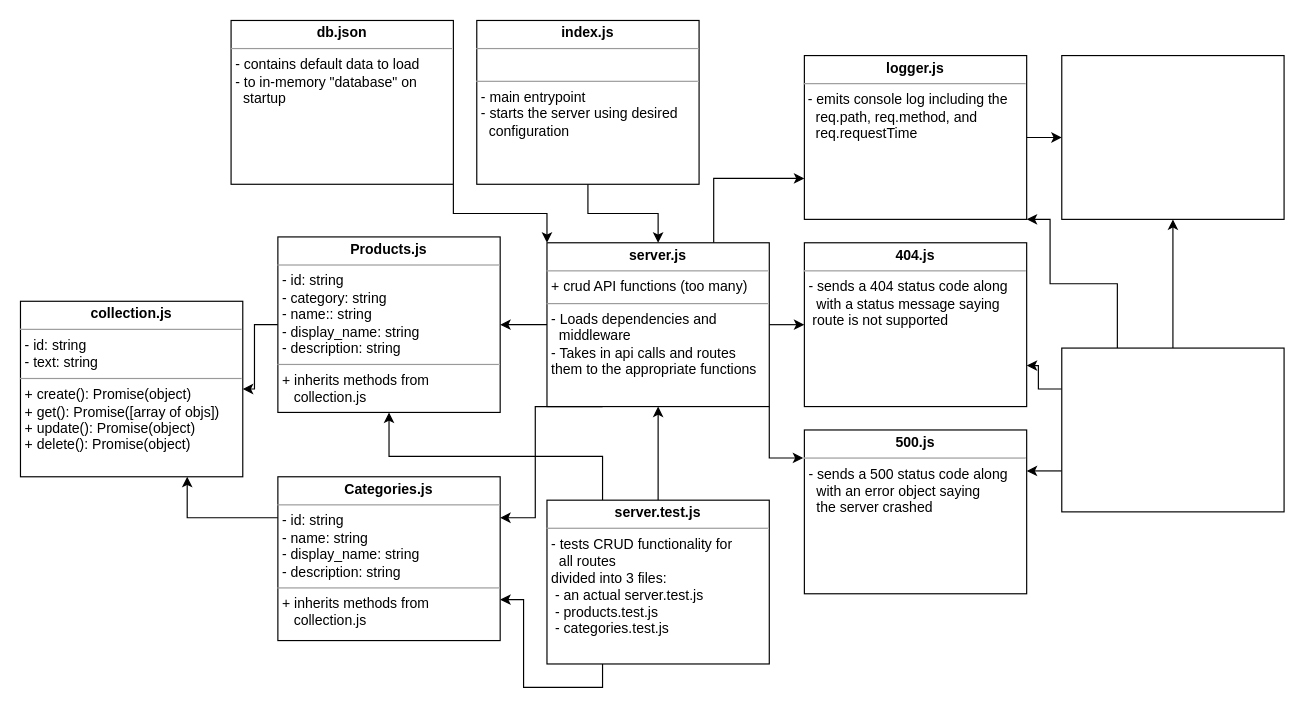
Image size: 1305x717. Some labels were removed from this diagram. The shapes that lost their labels are listed below. From the top down, each one's box as (x1, y1, x2, y2) in pixels, then its label:
(1061, 54, 1284, 219): timestamp.js - Generates requestTime property to be used in logger.js
(1061, 347, 1284, 512): middleware.test.js -tests functionality middleware
